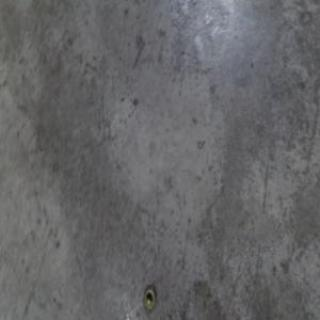Nuttrack_idkeyframe: (142, 283, 155, 311)
